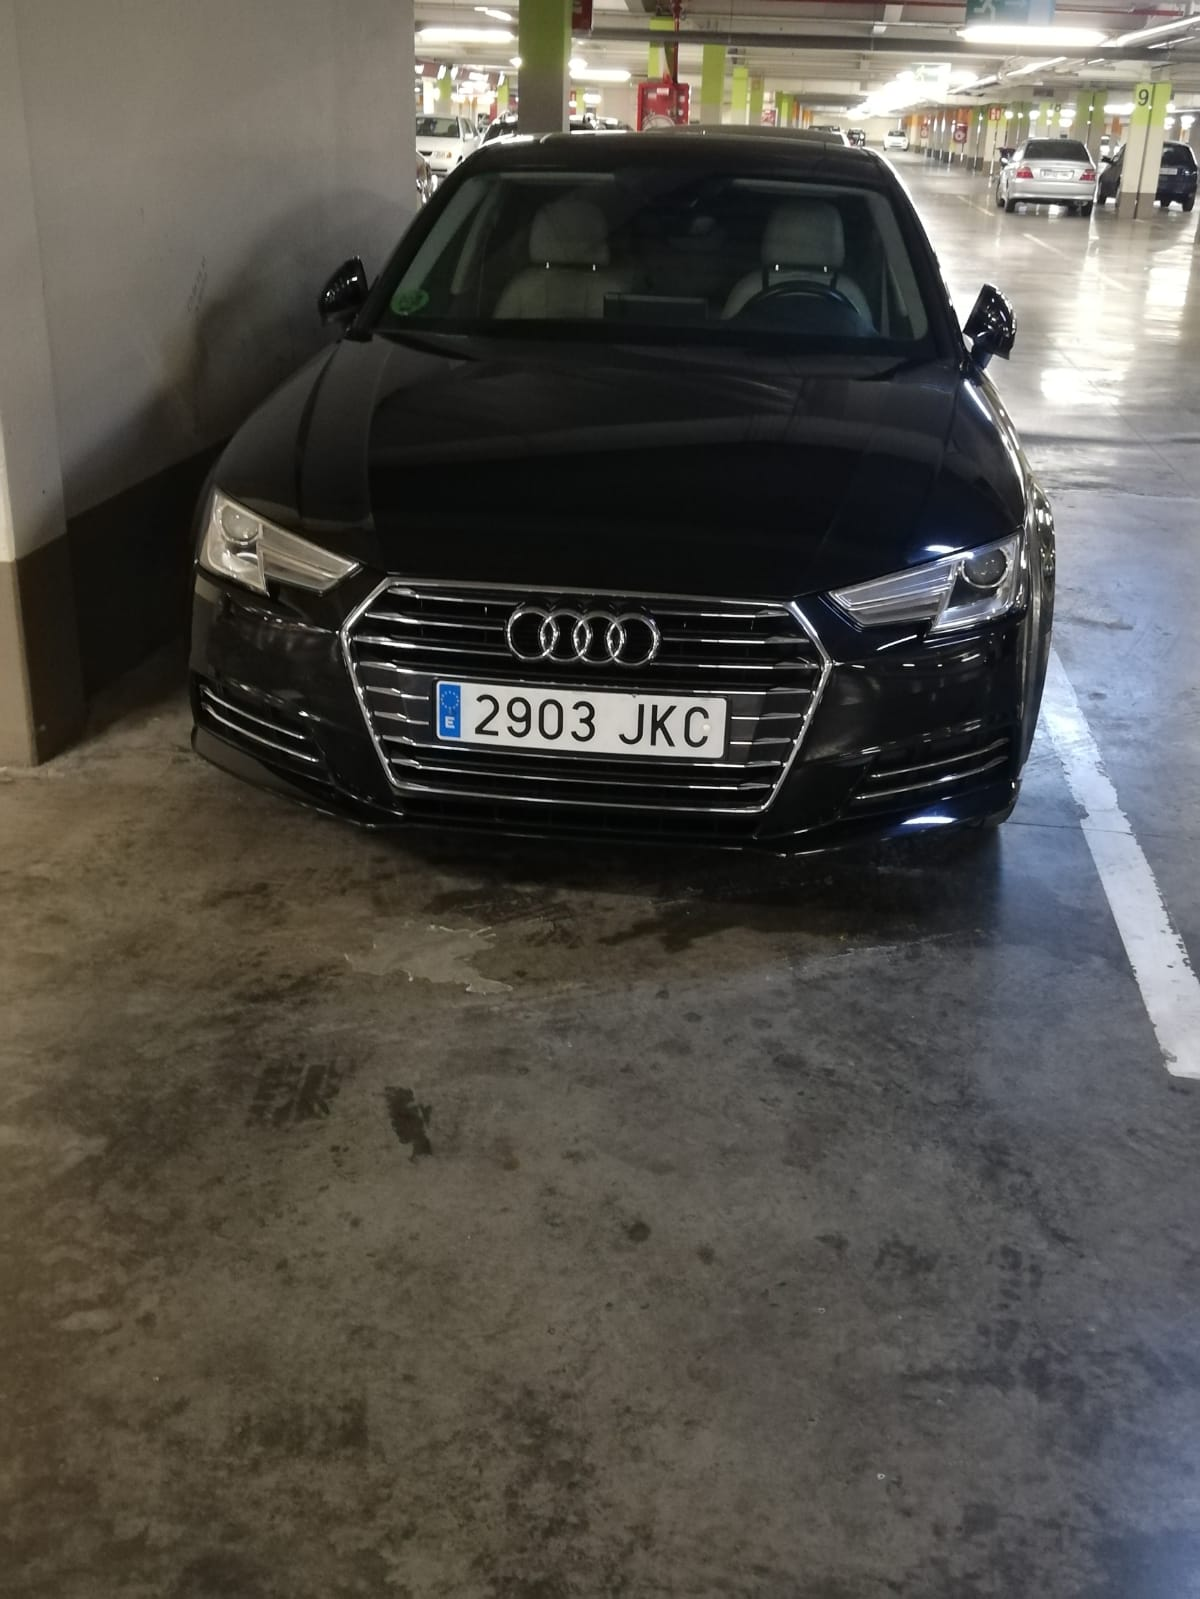Car: (189, 130, 1052, 857)
Plate: (439, 678, 728, 741)
